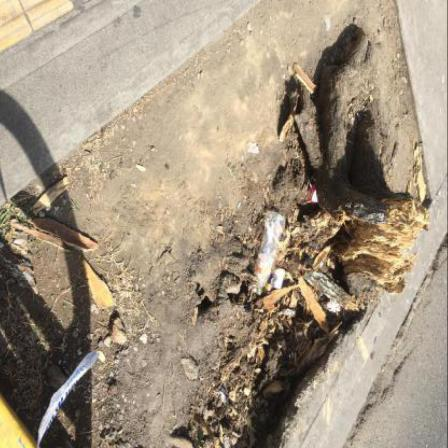Bottle: (256, 212, 286, 296)
Carton: (308, 186, 319, 204)
Cigarette: (238, 203, 242, 211)
Cup: (274, 270, 286, 290)
Paper: (219, 389, 229, 405)
Plastic bag - wrapper: (38, 352, 101, 448), (261, 278, 279, 298)
Straw: (310, 181, 314, 189)
